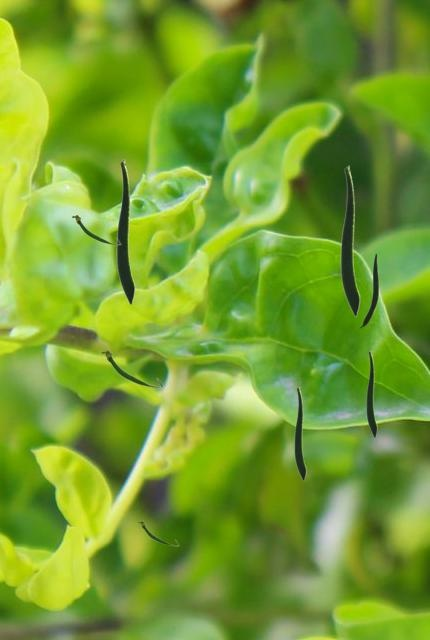french_bean: (340, 165, 359, 316), (116, 159, 134, 304), (100, 349, 162, 387), (71, 214, 120, 244), (359, 253, 377, 327), (294, 386, 305, 480), (137, 520, 178, 545), (366, 350, 376, 437)
